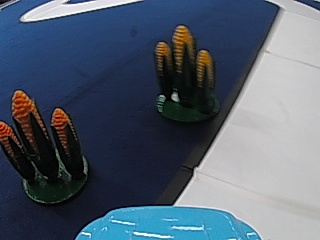corn: (2, 85, 89, 199), (152, 27, 220, 122)
